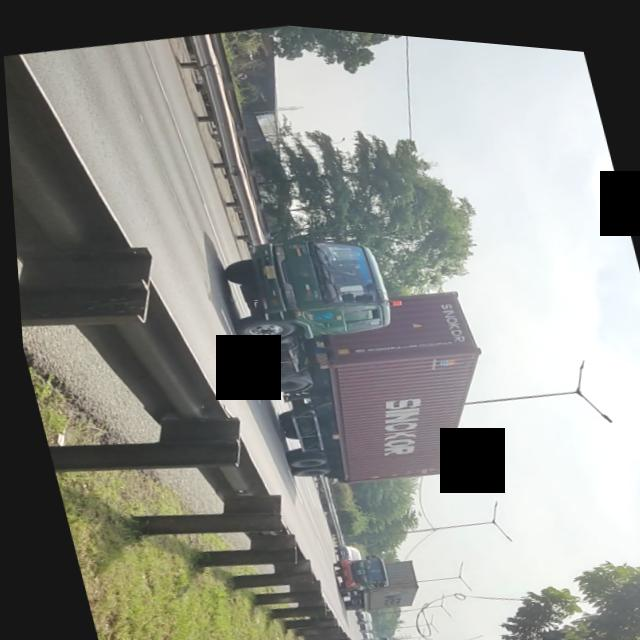Golongan IV: (209, 198, 491, 500)
